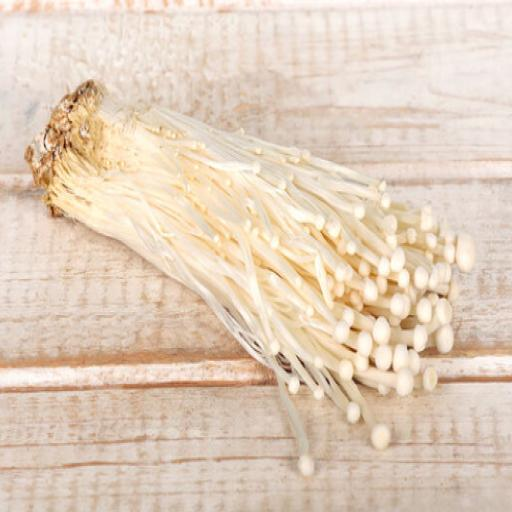Enoki Mushroom: (0, 0, 512, 506)
